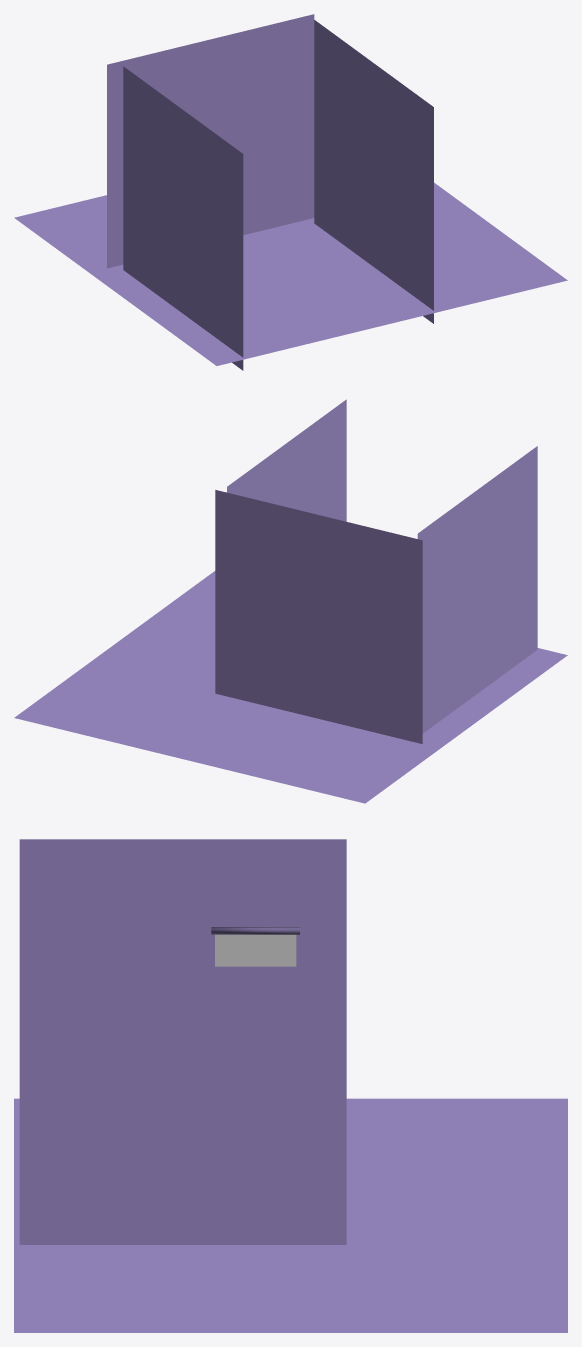
The model's file is desksetupFloor.fbx.
The picture shows the model from 3 angles, top to bottom: view 1: azimuth 30°, elevation 25°; view 2: azimuth 150°, elevation 25°; view 3: azimuth 270°, elevation 25°; orthographic projection. The views are drawn at different scales.
Parts seen in each view (by area): view 1: Plane.001, Plane.004, Plane.002, Plane.003; view 2: Plane.004, Plane.001, Plane.002, Plane.003; view 3: Plane.003, Plane.001, Plane.002, Plane.008, Cube.007.
Part boxes in pixels (left/top/right/bottom): Plane.001: left=14, top=182, right=567, bottom=365; Plane.004: left=107, top=14, right=314, bottom=268; Plane.002: left=123, top=66, right=243, bottom=370; Plane.003: left=314, top=20, right=433, bottom=323; Plane.004: left=215, top=490, right=422, bottom=743; Plane.001: left=14, top=571, right=567, bottom=803; Plane.002: left=417, top=446, right=537, bottom=733; Plane.003: left=227, top=399, right=346, bottom=521; Plane.003: left=19, top=966, right=346, bottom=1244; Plane.001: left=14, top=1098, right=567, bottom=1332; Plane.002: left=19, top=839, right=346, bottom=966; Plane.008: left=215, top=934, right=296, bottom=966; Cube.007: left=211, top=927, right=299, bottom=934.
Size of the model in its own units: 1894 by 1118 by 1894.
